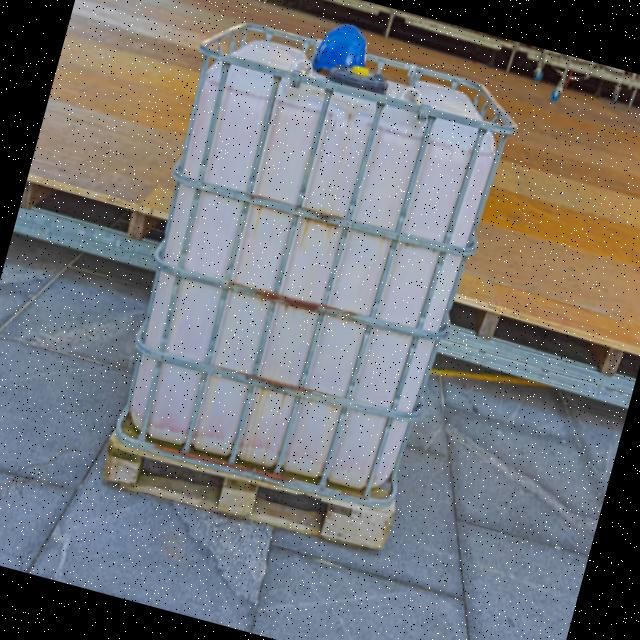Wooden-Pallets: (97, 435, 398, 556)
